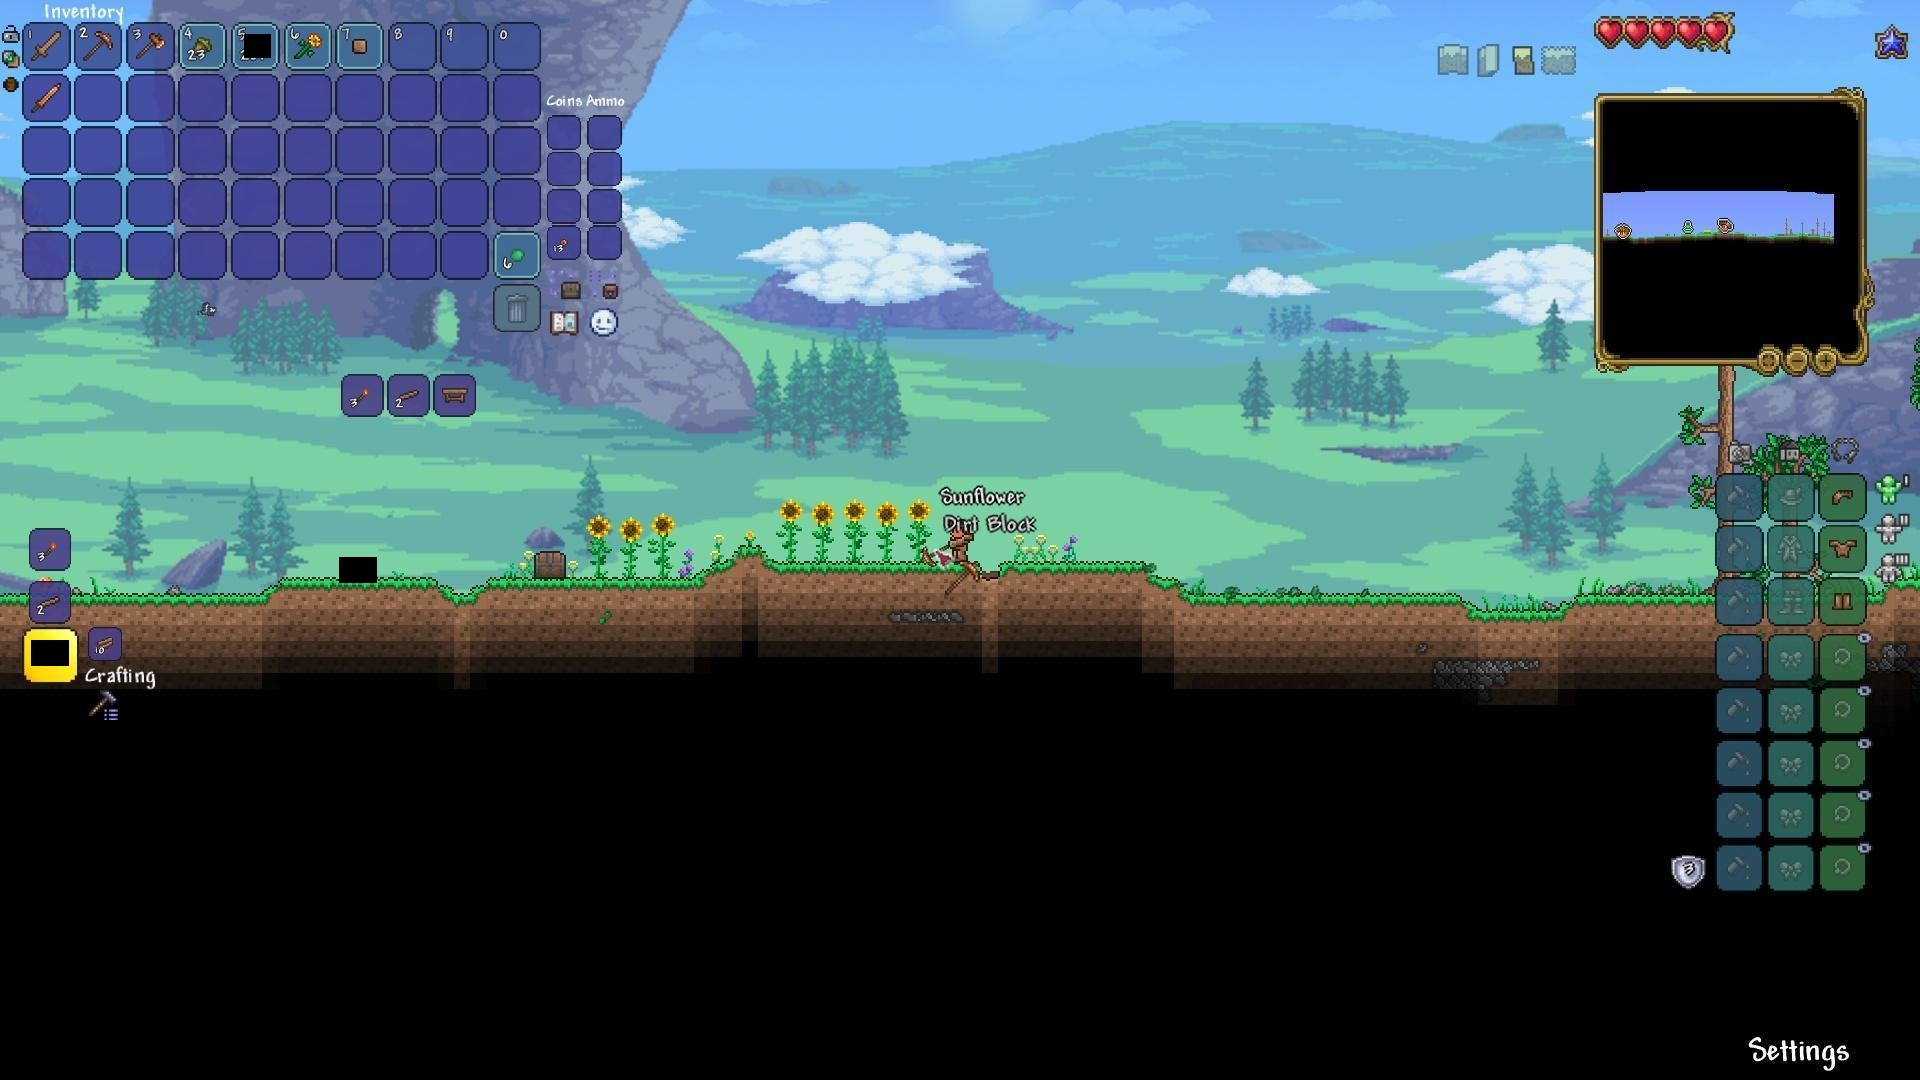breastplate: (1830, 537, 1859, 558)
helmet: (1829, 484, 1859, 512)
legs: (1832, 585, 1857, 615)
wood: (88, 629, 120, 659)
workbench: (436, 382, 473, 407)
